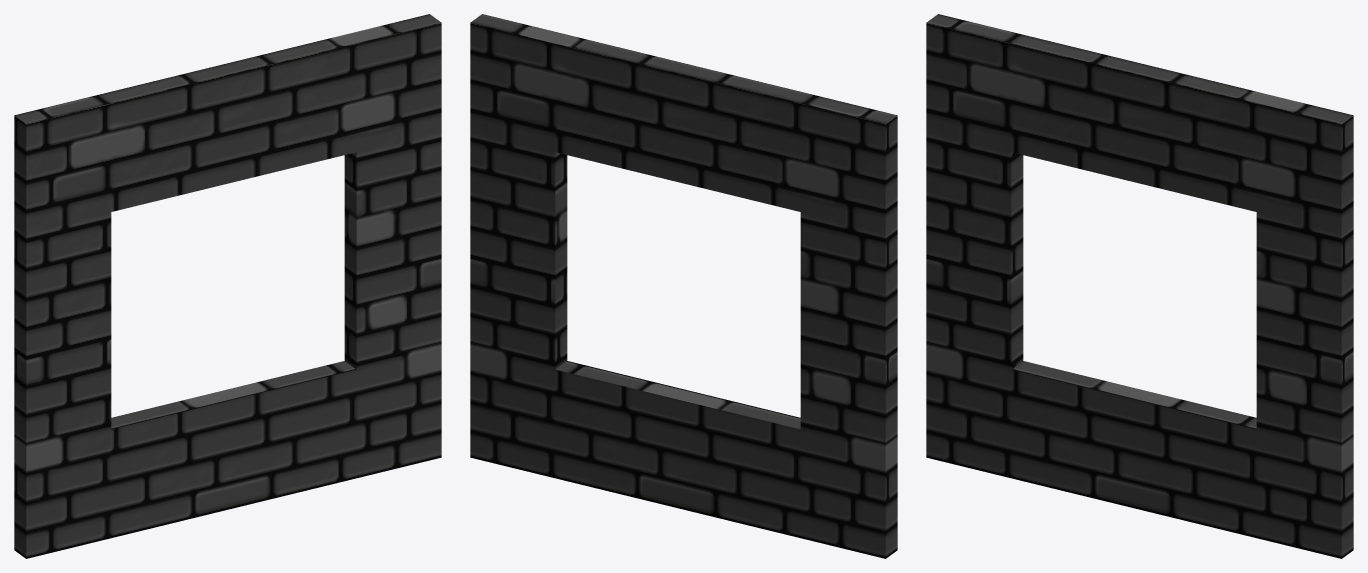
File: Wall_3_C.fbx
3 renders of one model, left to right at view 1: azimuth 30°, elevation 25°; view 2: azimuth 150°, elevation 25°; view 3: azimuth 330°, elevation 25°, orthographic.
Parts seen in each view (by area): view 1: pCube40; view 2: pCube40; view 3: pCube40.
Part boxes in pixels (x1,y1,x2,y2): pCube40: (14, 14, 441, 558); pCube40: (470, 14, 897, 558); pCube40: (926, 14, 1353, 558).
Bounding box in the file's own units: 4 × 4 × 0.2.
